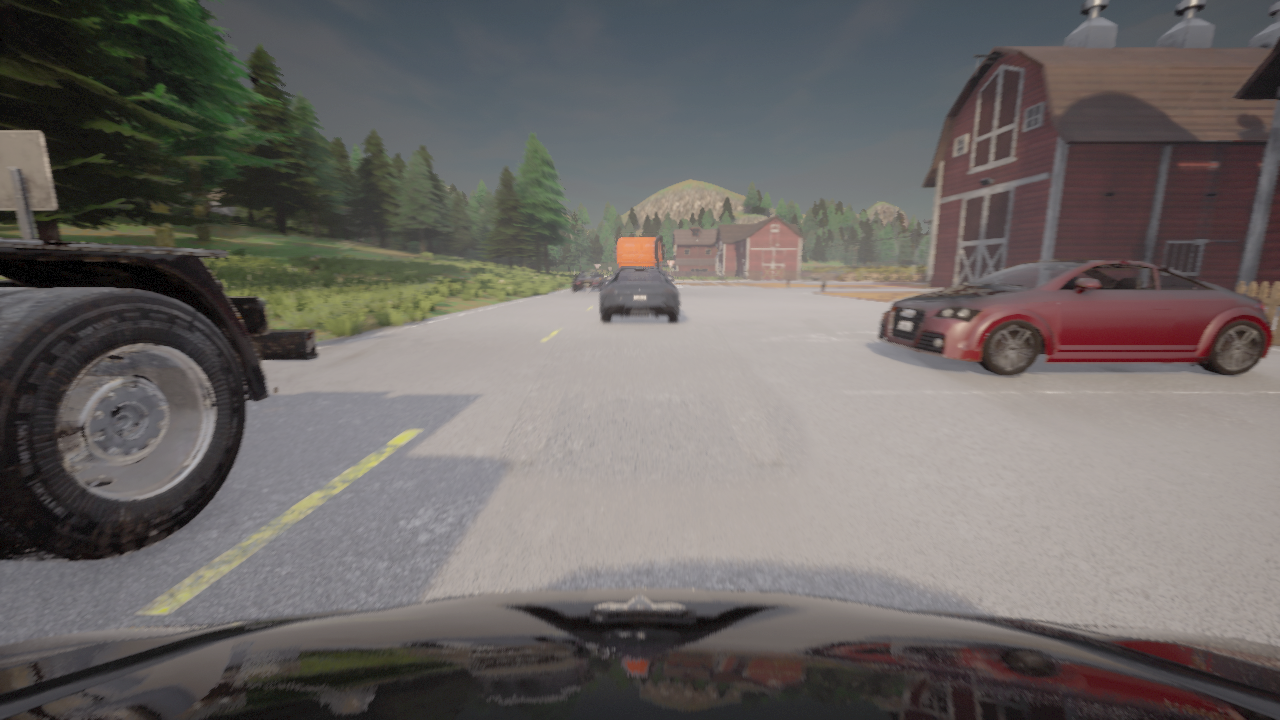cyclist: (0, 588, 1279, 719), (0, 238, 317, 561), (877, 259, 1272, 375), (600, 267, 679, 322), (614, 236, 666, 277), (572, 271, 604, 290)
